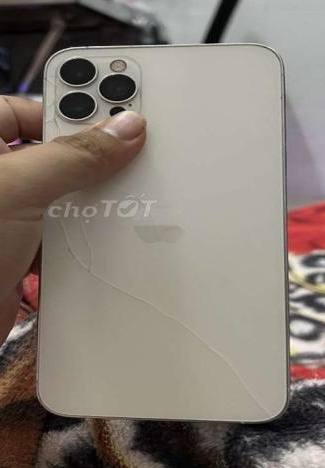physical_damage: (43, 51, 283, 418)
